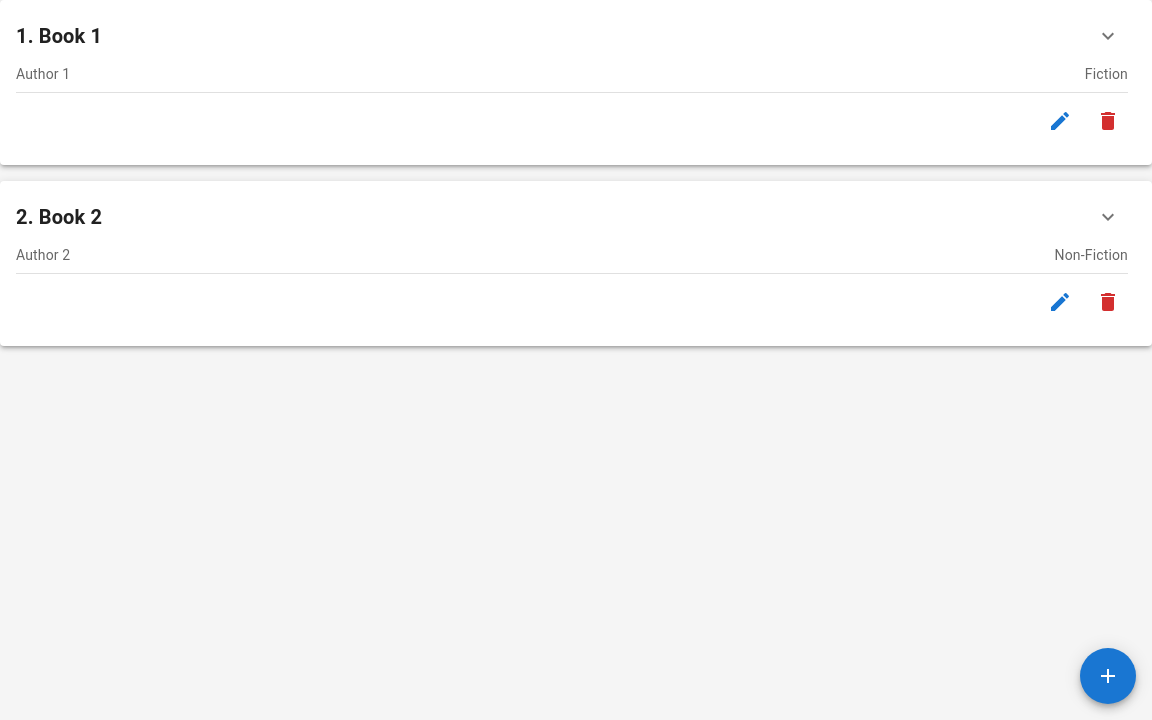
BookList Component › toggles book description when expand/collapse button is clicked
Step 1. Click the button named "expand" in the row of "Book 1" → (1108, 36), box [1088, 16, 1128, 56]
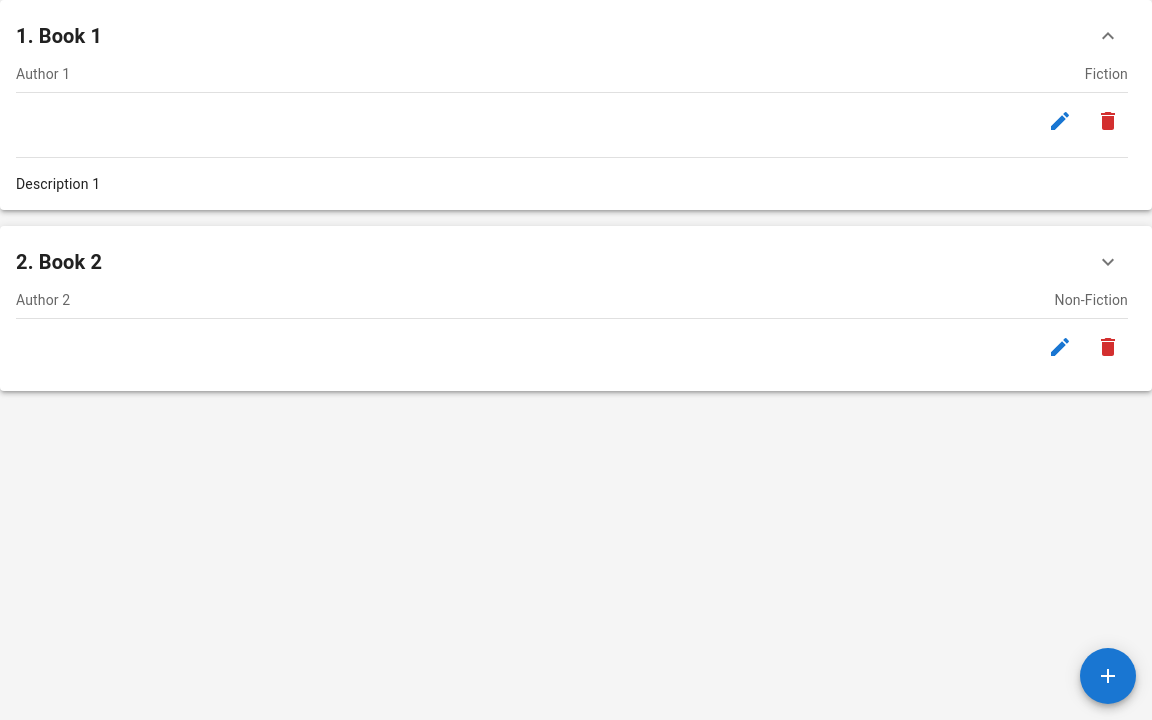
Expected: the text "Description 1" is shown, [16, 176, 100, 192]
Step 2. Click the button named "expand" → (1108, 36), box [1088, 16, 1128, 56]
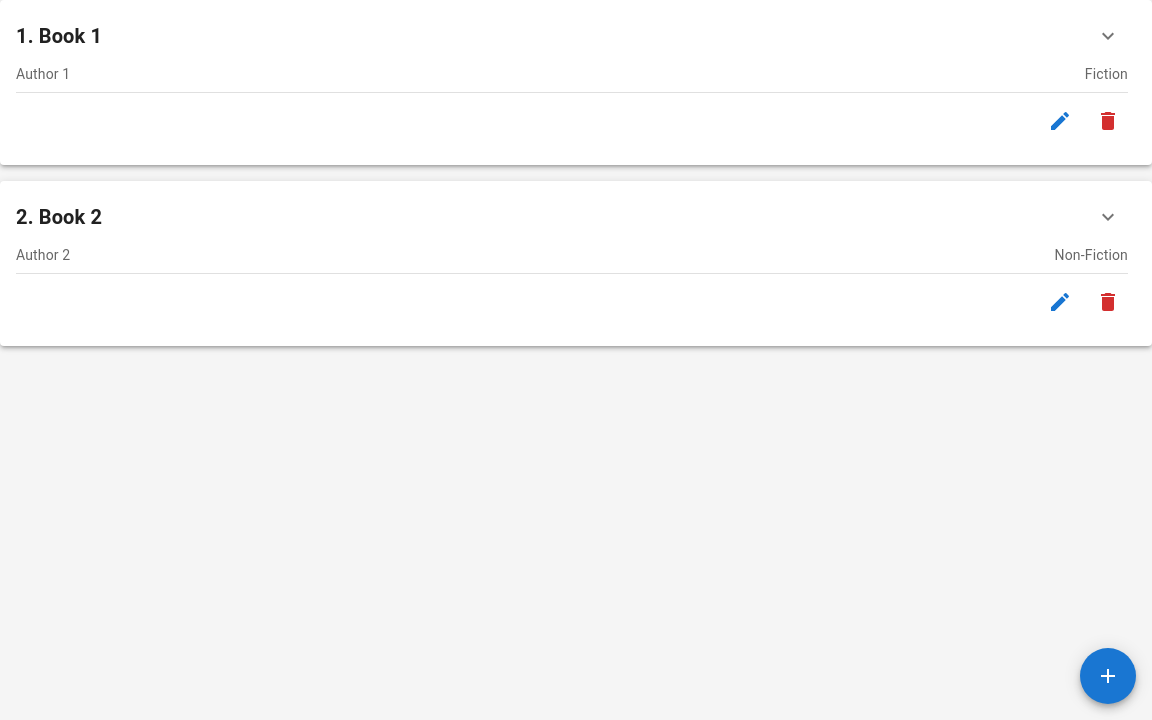
Expected: the text "Description 1" is gone
